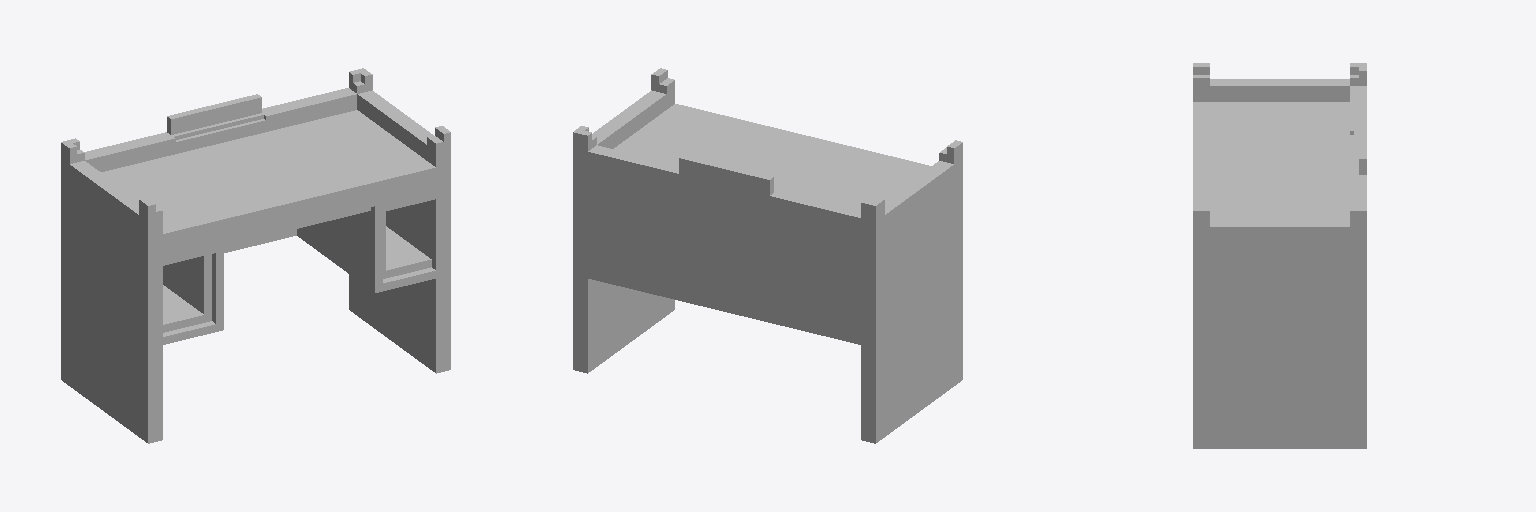
Rendered from table (2).obj.
3 views of the same model, side by side, from view 1: azimuth 30°, elevation 25°; view 2: azimuth 150°, elevation 25°; view 3: azimuth 270°, elevation 25° (orthographic).
Parts seen in each view (by area): view 1: table; view 2: table; view 3: table.
Part boxes in pixels (bbox=[...]): table: bbox=[61, 68, 450, 443]; table: bbox=[573, 68, 962, 443]; table: bbox=[1193, 63, 1366, 448].
Bounding box in the file's own units: 80 × 60 × 40.